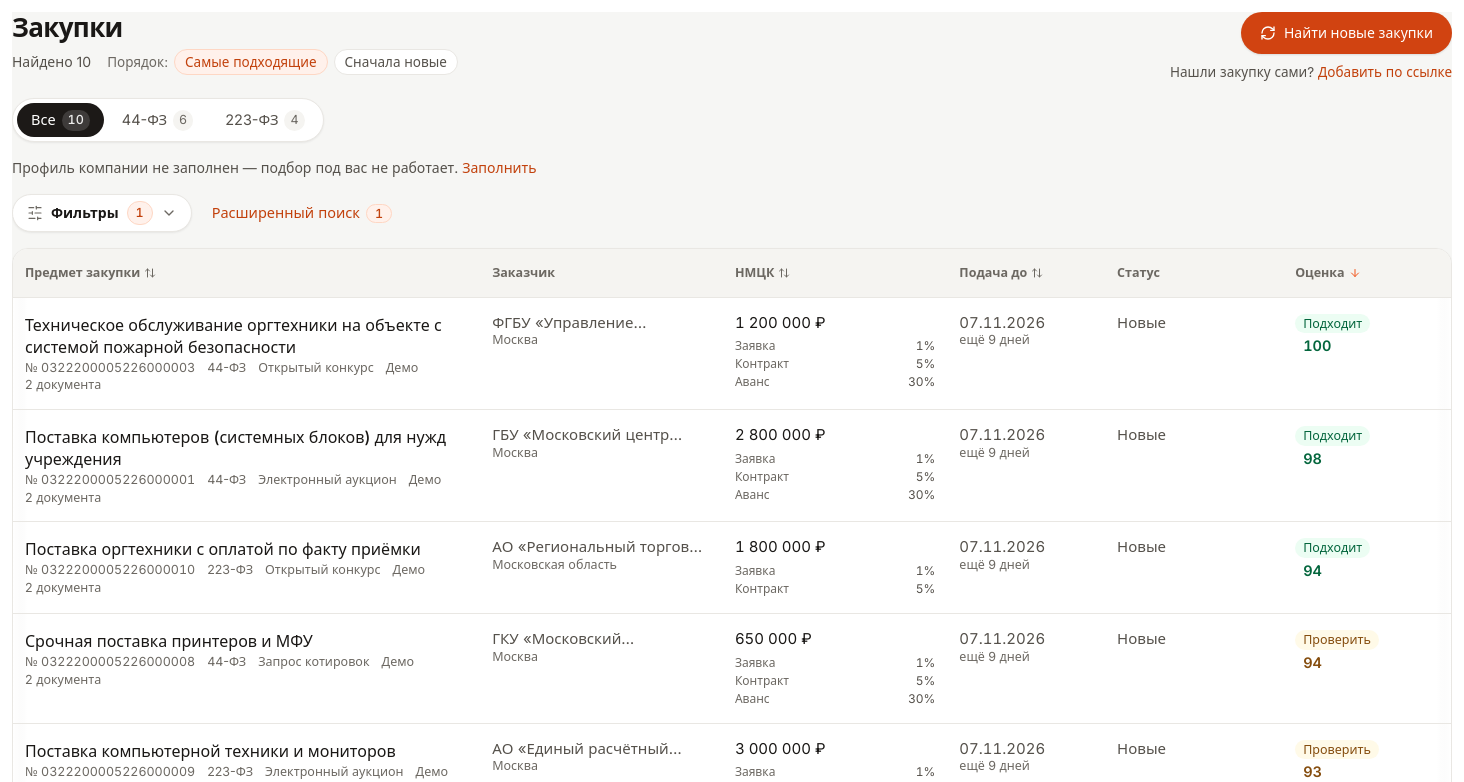
it: TendersView — фильтры в адресной строке › ссылка с closed=hide открывается уже с включённым переключателем
The width and height of the screenshot is (1464, 782).
Click the button "Фильтры 1".
click(102, 213)  # box [12,194,192,232]
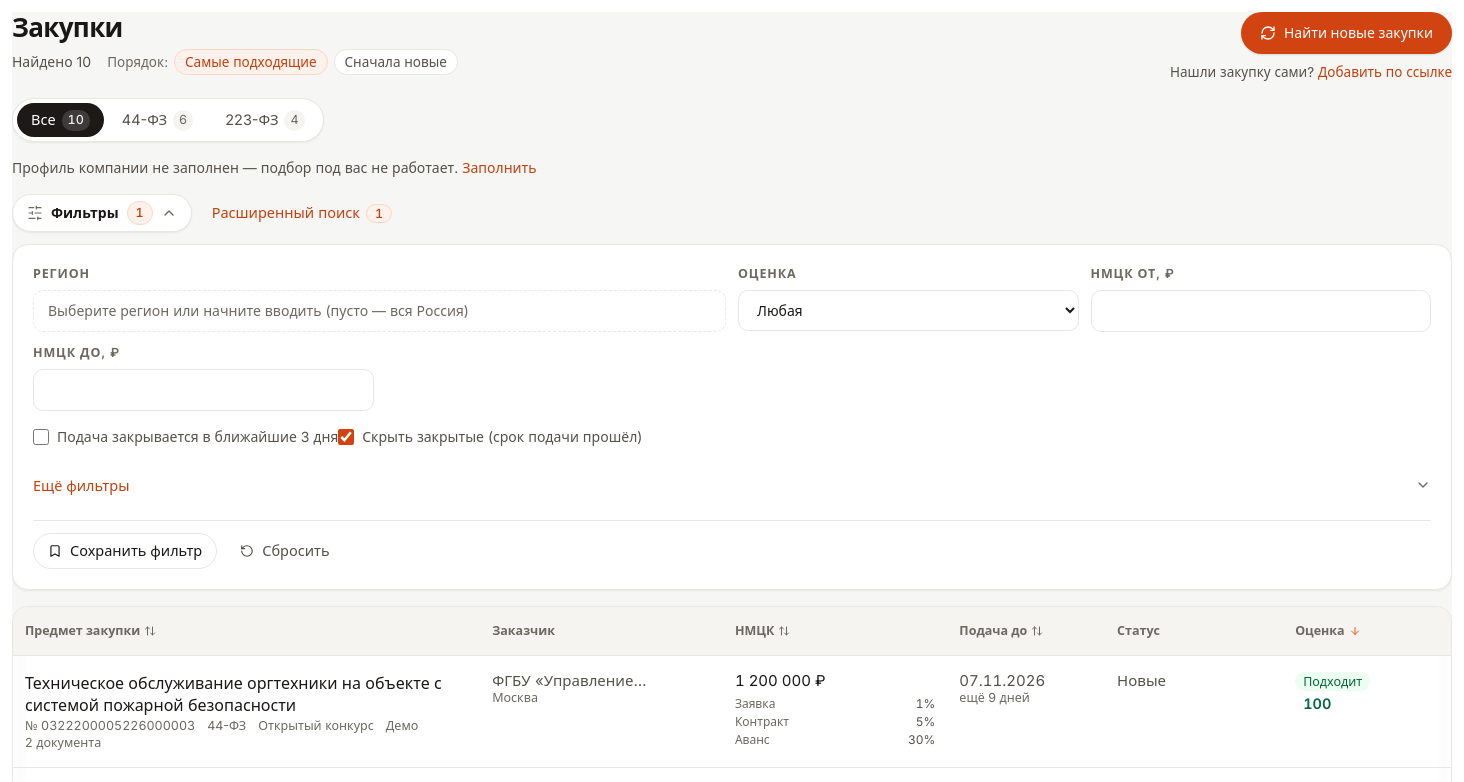
Check: the checkbox labelled "Скрыть закрытые (срок подачи прошёл)" is checked, box [338,428,354,444]
